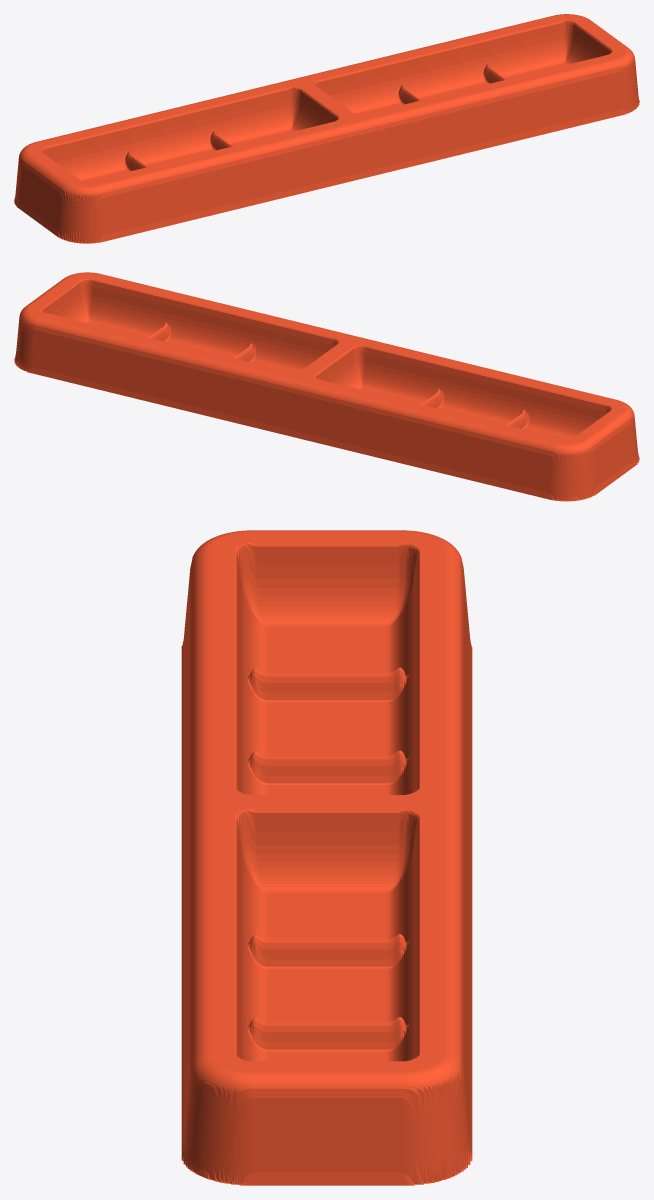
Rendered from mold.glb.
3 views of the same model, one above another, from view 1: azimuth 30°, elevation 25°; view 2: azimuth 150°, elevation 25°; view 3: azimuth 270°, elevation 25° (orthographic). The views are drawn at different scales.
Parts seen in each view (by area): view 1: geometry_0; view 2: geometry_0; view 3: geometry_0.
Boxes of the visible parts, box(x1,y1,x2,y2) form: geometry_0: box(14, 14, 639, 243); geometry_0: box(14, 272, 639, 501); geometry_0: box(181, 530, 472, 1185).
Bounding box in the file's own units: 0.1721 × 0.0145 × 0.0376.
